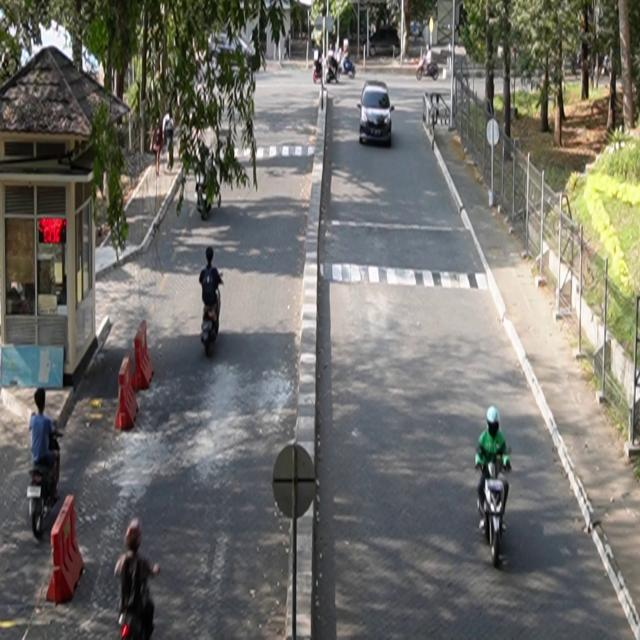car: (358, 81, 395, 148)
